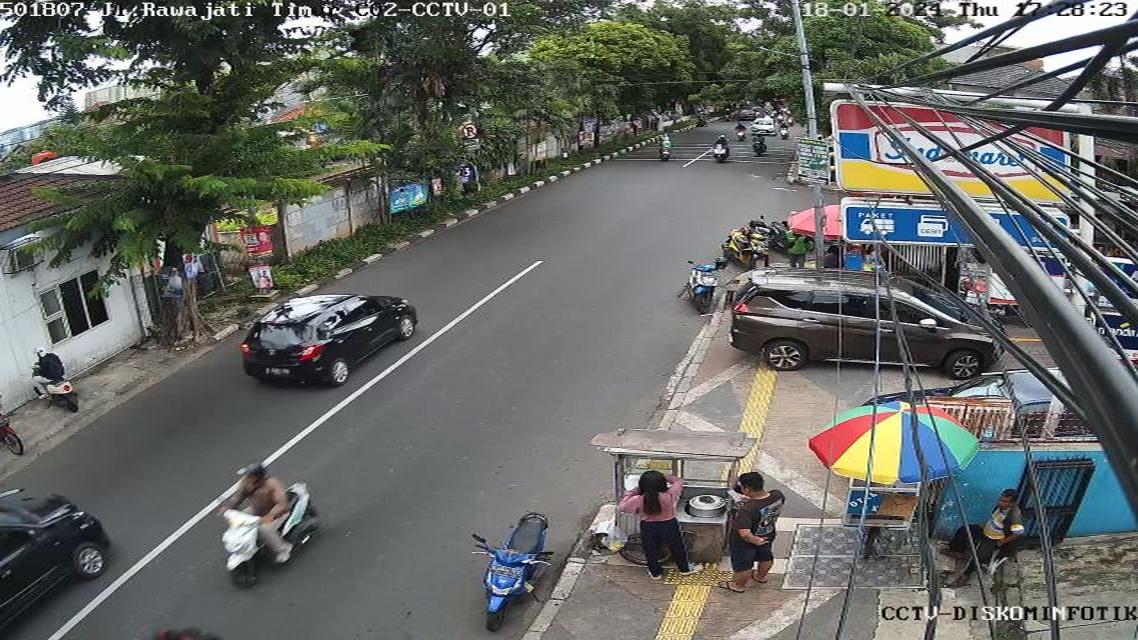Gerobak: (564, 403, 768, 585), (828, 465, 954, 640)
